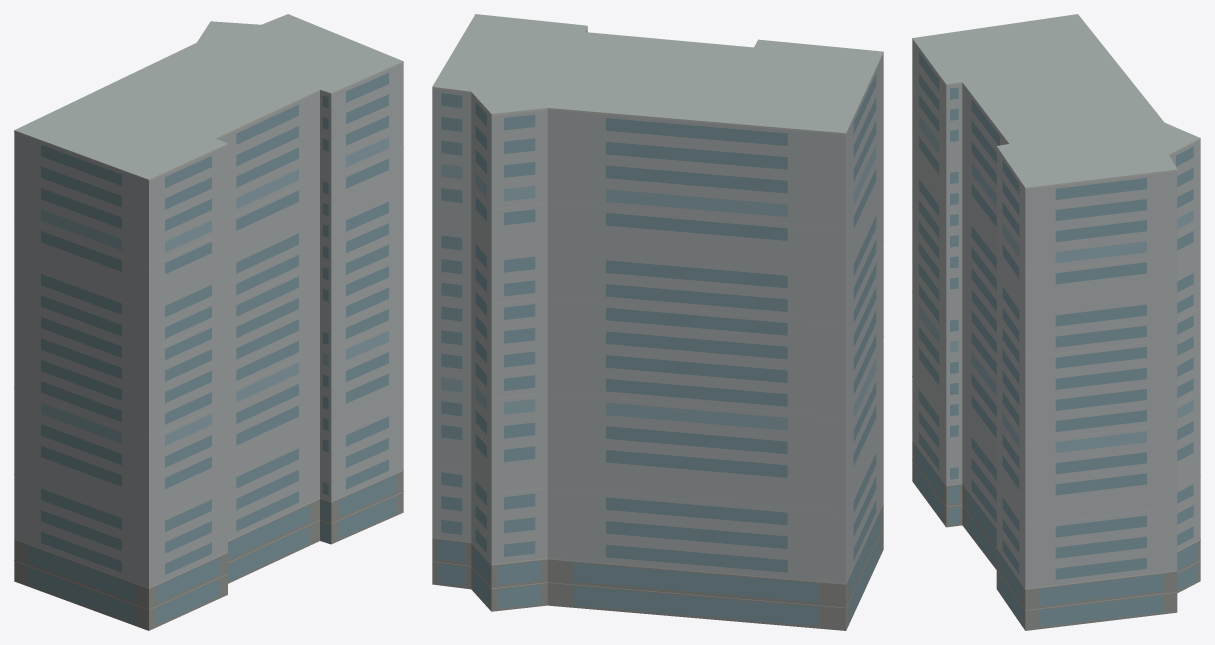
The model's file is survey-upis-33007846.glb.
3 views of the same model, side by side, from view 1: azimuth 30°, elevation 25°; view 2: azimuth 150°, elevation 25°; view 3: azimuth 270°, elevation 25° (orthographic). The views are drawn at different scales.
Parts seen in each view (by area): view 1: survey-upis-33007846.tmp; view 2: survey-upis-33007846.tmp; view 3: survey-upis-33007846.tmp.
Boxes of the visible parts, x1,y1,x2,y2 form: survey-upis-33007846.tmp: (14, 14, 403, 630); survey-upis-33007846.tmp: (432, 14, 883, 630); survey-upis-33007846.tmp: (912, 14, 1200, 630).
Bounding box in the file's own units: 56.61 × 67.25 × 39.71.
